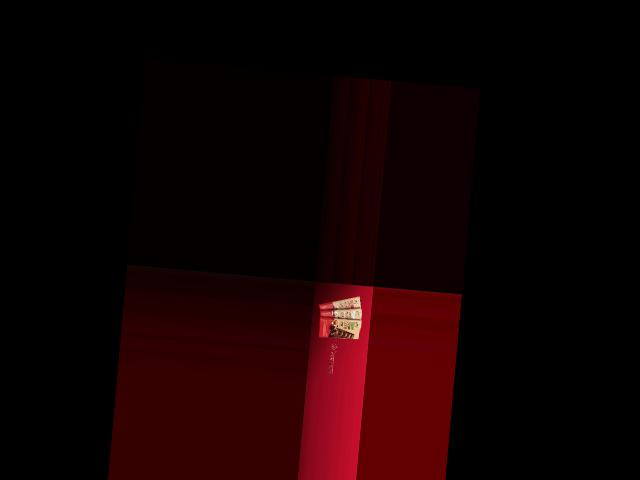chocolate: (316, 292, 364, 318)
